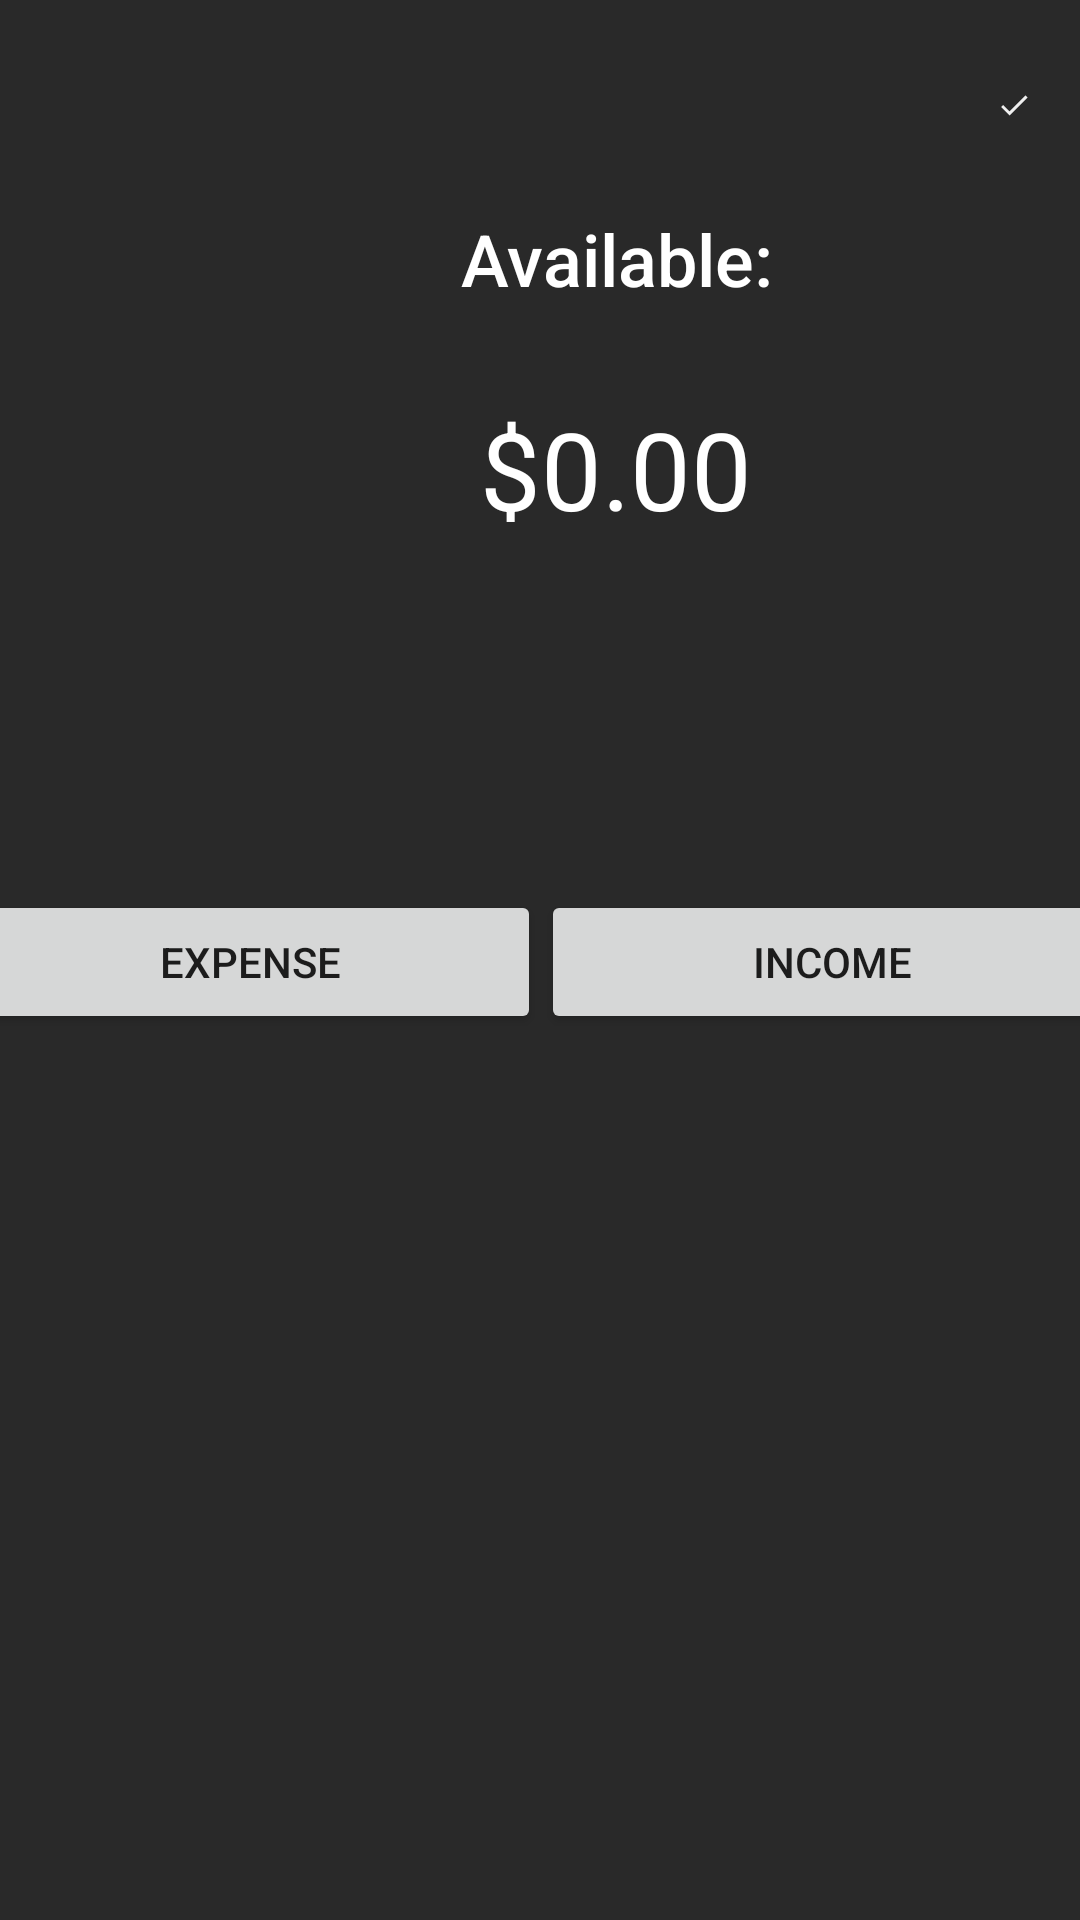

Screen size 1080w x 1920h. Icon name, then its center in pixels as [x,y]:
done: [1014,105]
